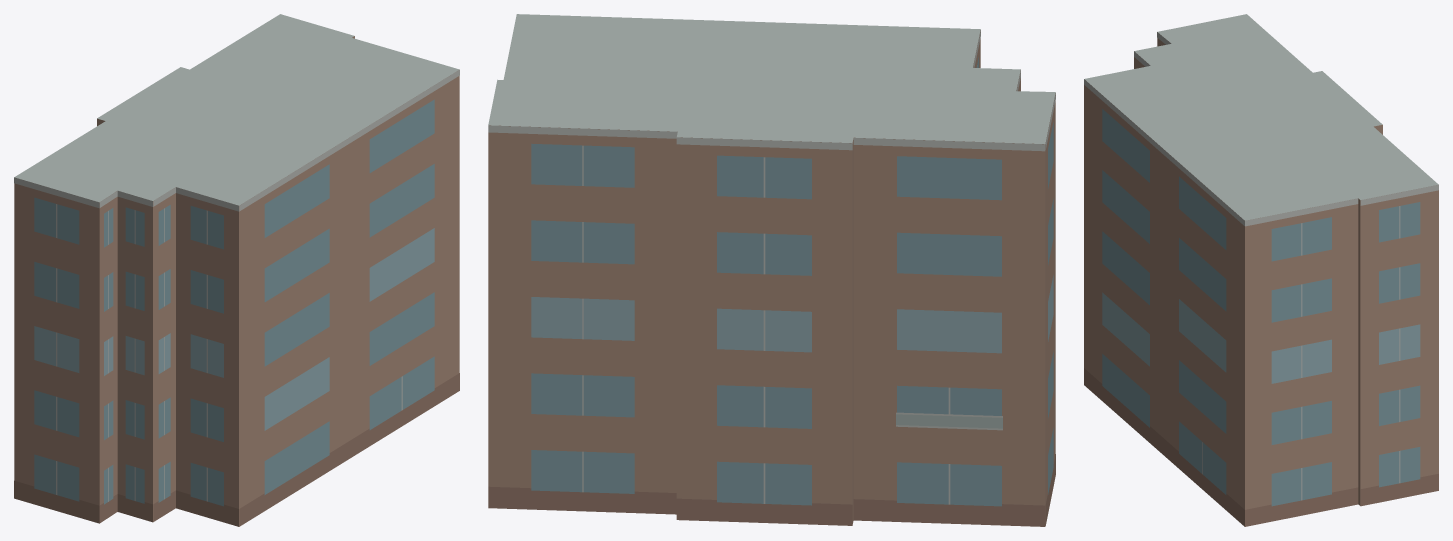
File: survey-upis-33003714.glb
3 renders of one model, left to right at view 1: azimuth 30°, elevation 25°; view 2: azimuth 150°, elevation 25°; view 3: azimuth 270°, elevation 25°, orthographic. The views are drawn at different scales.
Parts seen in each view (by area): view 1: survey-upis-33003714.tmp; view 2: survey-upis-33003714.tmp; view 3: survey-upis-33003714.tmp.
Part boxes in pixels (box(x1,y1,x2,y2)): survey-upis-33003714.tmp: box(14, 14, 459, 526); survey-upis-33003714.tmp: box(488, 14, 1055, 526); survey-upis-33003714.tmp: box(1084, 14, 1438, 526).
Bounding box in the file's own units: 18.99 × 13.1 × 13.77.
